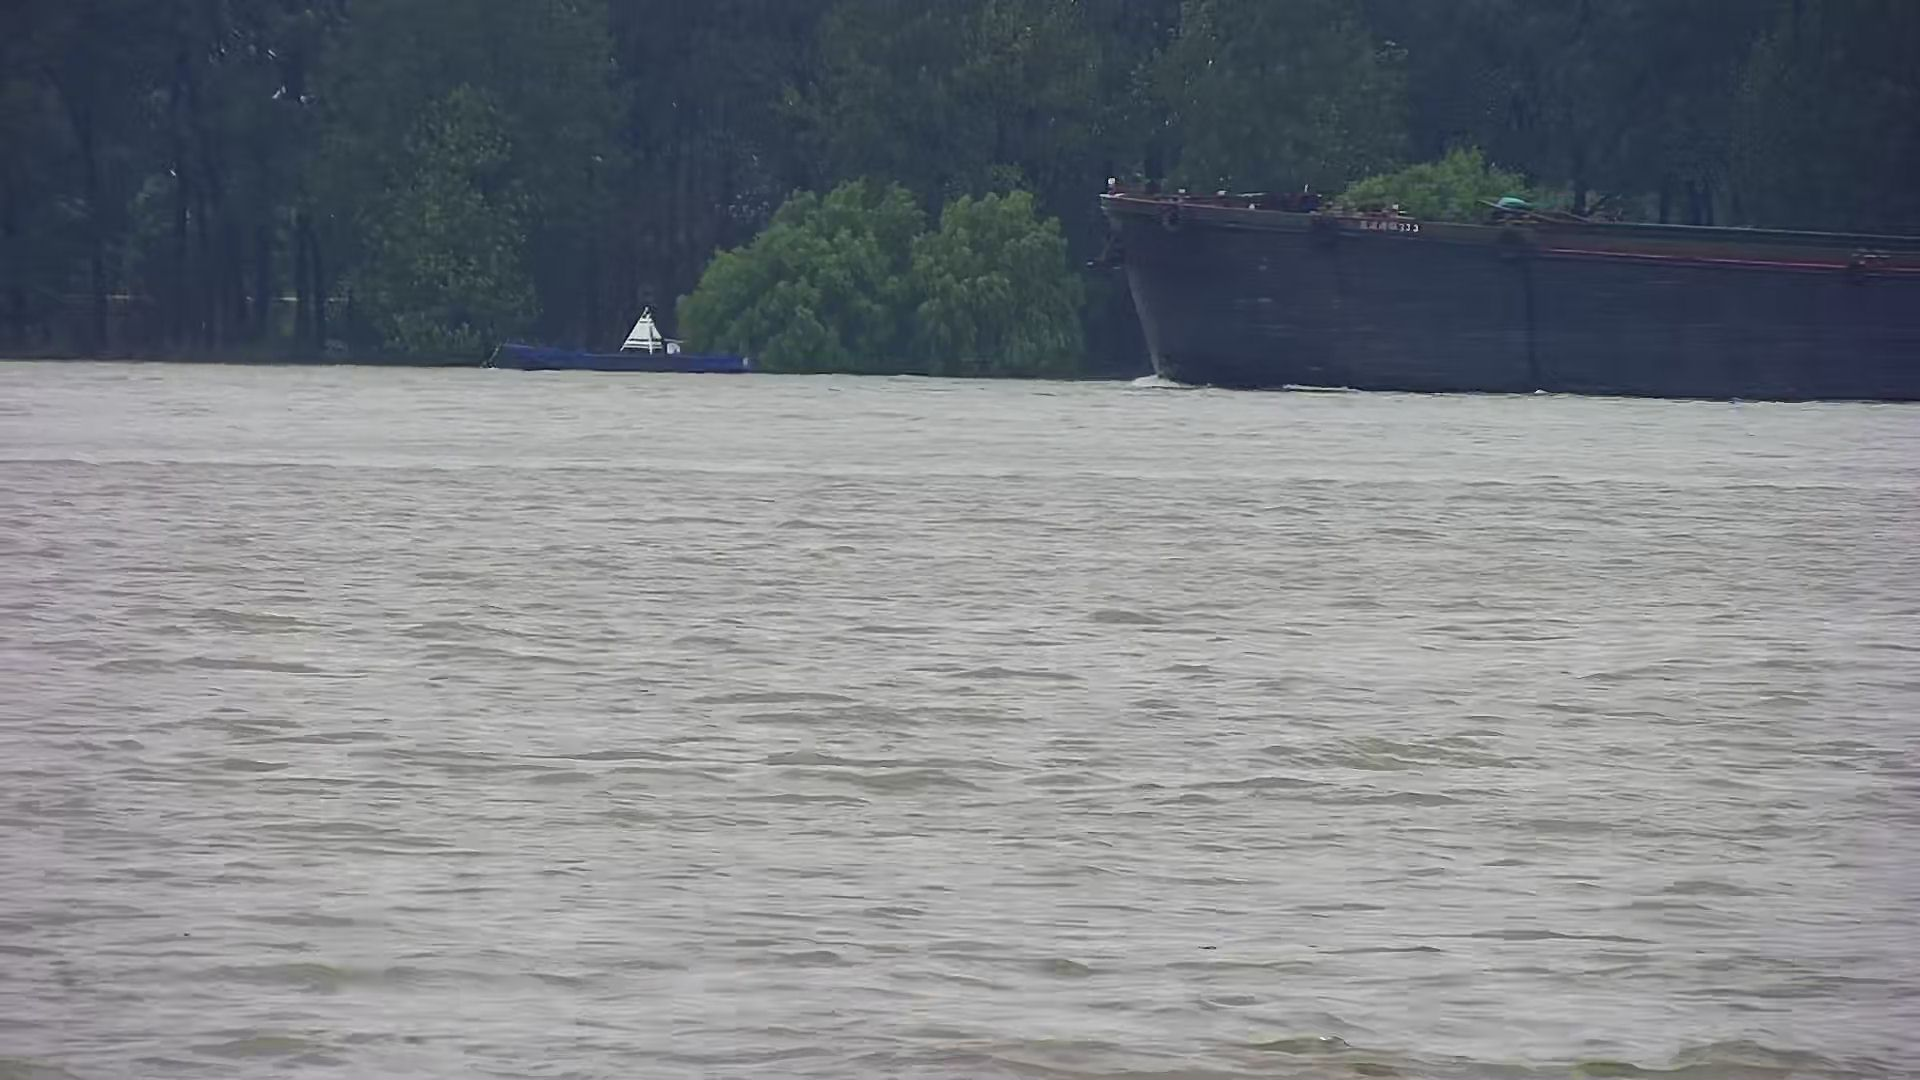boat: (483, 301, 764, 378)
ship: (1091, 138, 1920, 405)
